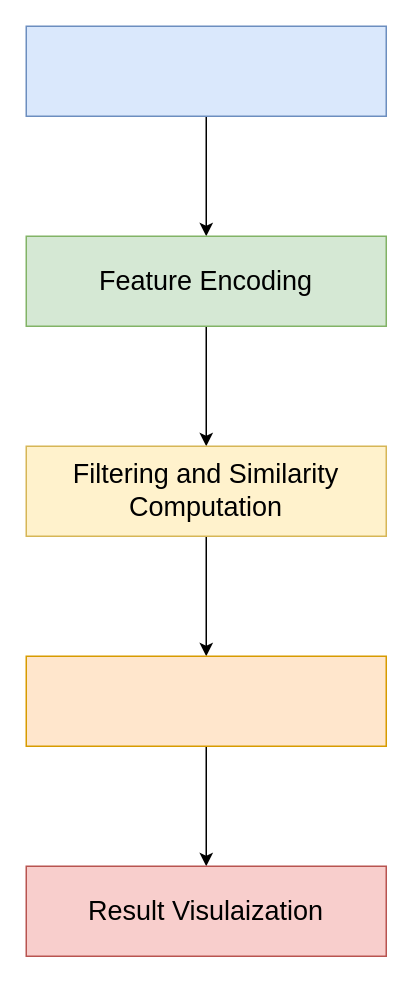
Image size: 413x983. Some labels were removed from this diagram. The centre of each missing label's shape, as x and y in pixels:
"Ranking and Explanation Generator" goes at (205,700).
"User input and Data preprocesisng" goes at (205,70).
